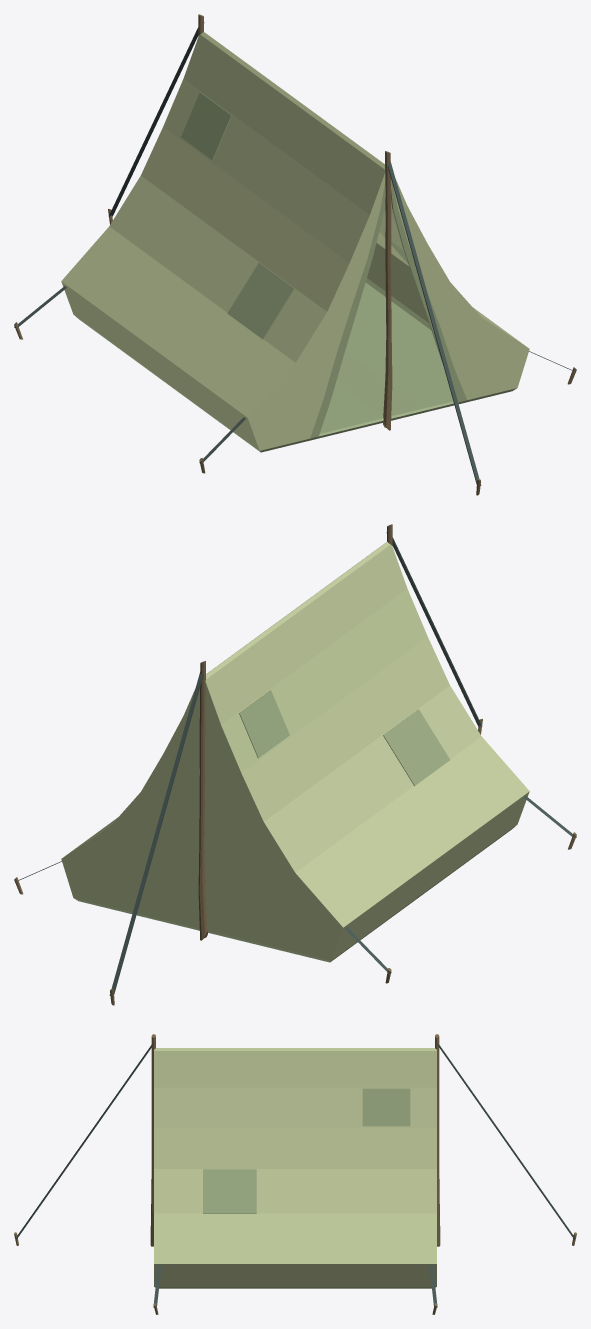
Rendered from expedition-tent.glb.
3 views of the same model, one above another, from view 1: azimuth 30°, elevation 25°; view 2: azimuth 150°, elevation 25°; view 3: azimuth 270°, elevation 25° (orthographic). The views are drawn at different scales.
Visible parts, largest first — view 1: Tent; view 2: Tent; view 3: Tent.
Boxes of the visible parts, <box> form: Tent: <box>14,14,576,495</box>; Tent: <box>14,524,576,1005</box>; Tent: <box>14,1034,576,1314</box>.
Bounding box in the file's own units: 14.58 × 10.32 × 24.87.
